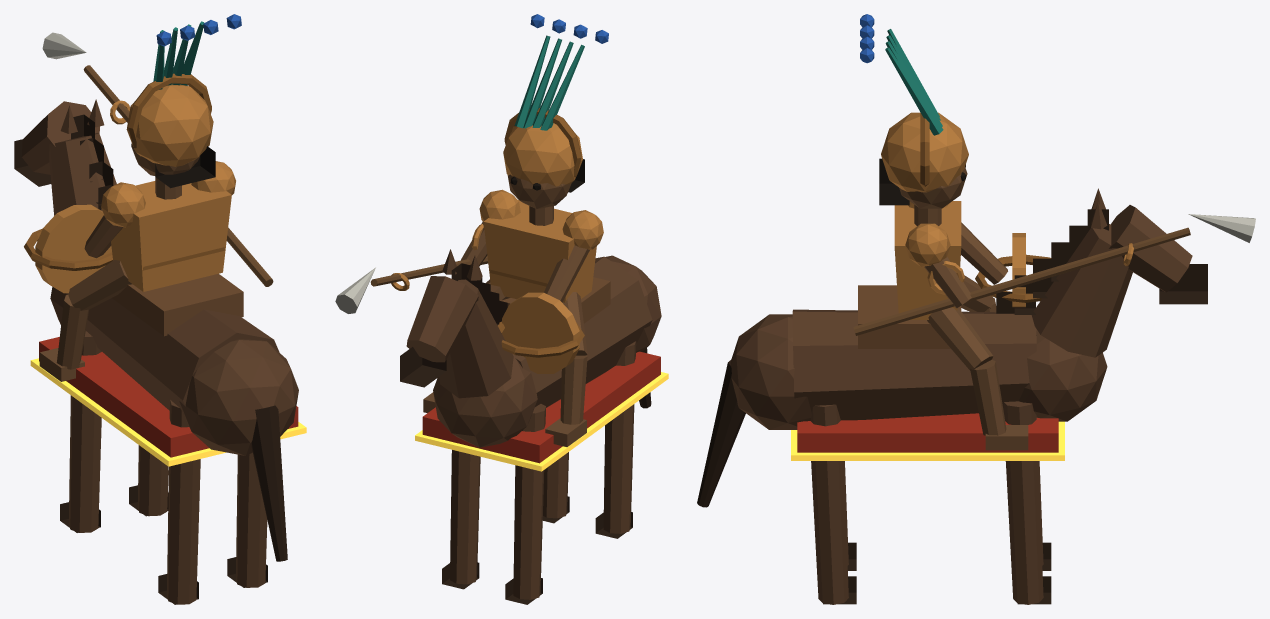
Rendered from sangam_cavalry.glb.
3 views of the same model, side by side, from view 1: azimuth 30°, elevation 25°; view 2: azimuth 150°, elevation 25°; view 3: azimuth 270°, elevation 25° (orthographic). The views are drawn at different scales.
Visible parts, largest first — view 1: barrel; view 2: barrel; view 3: barrel.
Boxes of the visible parts, x1,y1,x2,y2 form: barrel: (14,14,306,604); barrel: (335,14,668,604); barrel: (697,14,1255,604).
Bounding box in the file's own units: 0.631 × 2 × 1.84.
